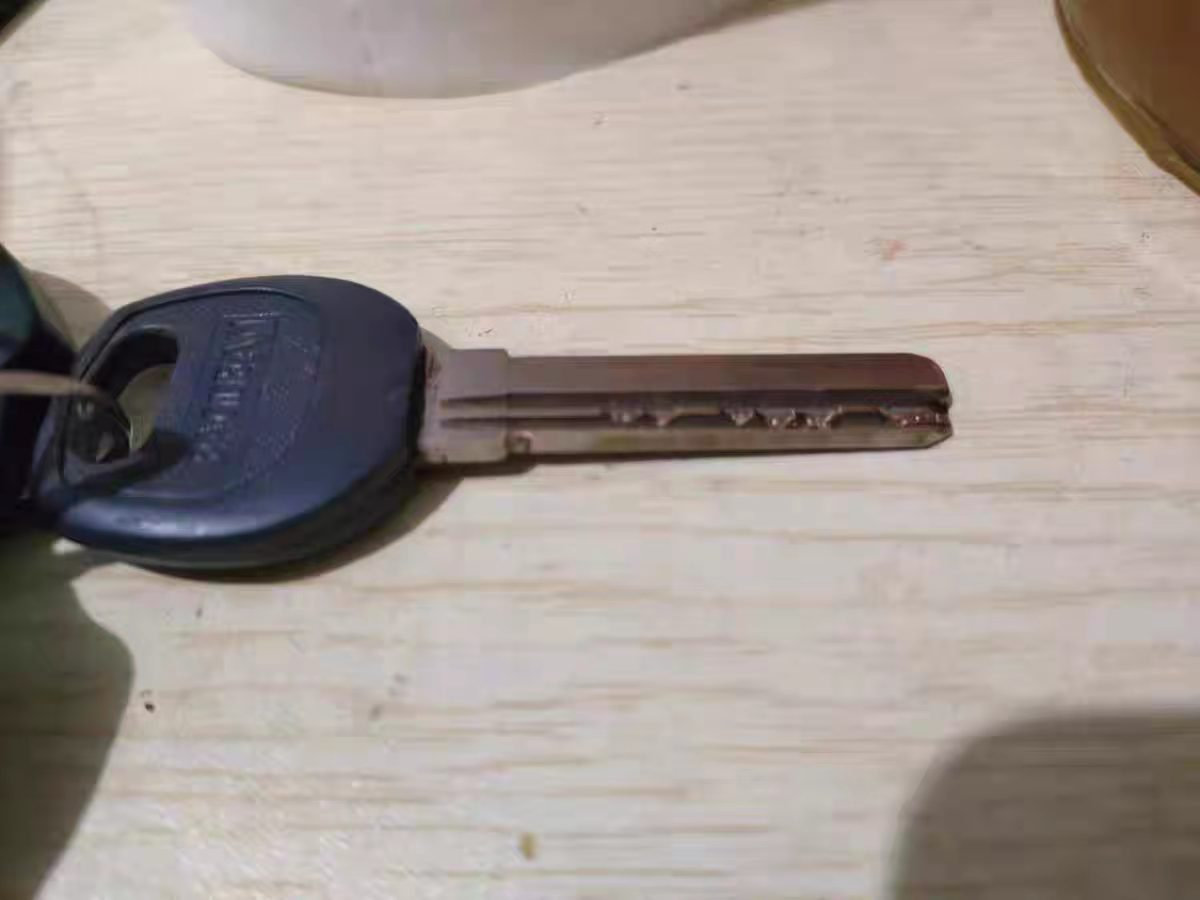key: (26, 270, 957, 578)
